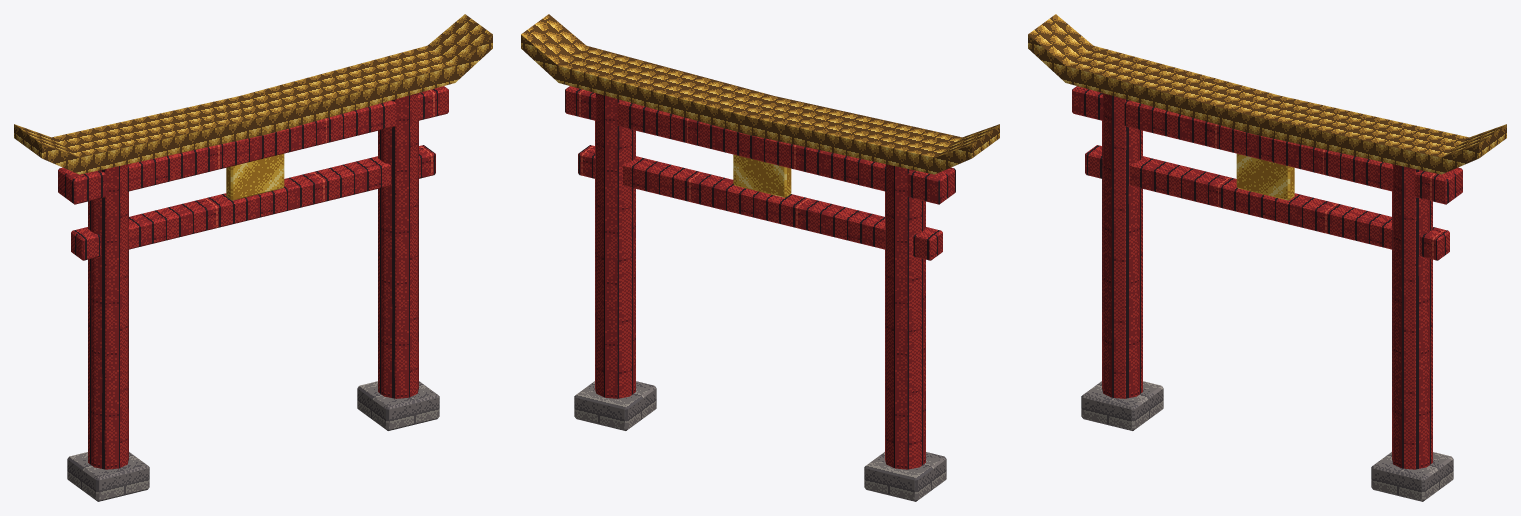
The model's file is bell_gate.glb.
The picture shows the model from 3 angles, left to right: view 1: azimuth 30°, elevation 25°; view 2: azimuth 150°, elevation 25°; view 3: azimuth 330°, elevation 25°; orthographic projection.
Visible parts, largest first — view 1: Gate; view 2: Gate; view 3: Gate.
Boxes of the visible parts, bbox=[...] form: Gate: bbox=[14, 14, 492, 501]; Gate: bbox=[521, 14, 999, 501]; Gate: bbox=[1028, 14, 1506, 501].
Size of the model in its own units: 8.4 by 6.6 by 1.
Materials: 4 (4 with a texture image).
